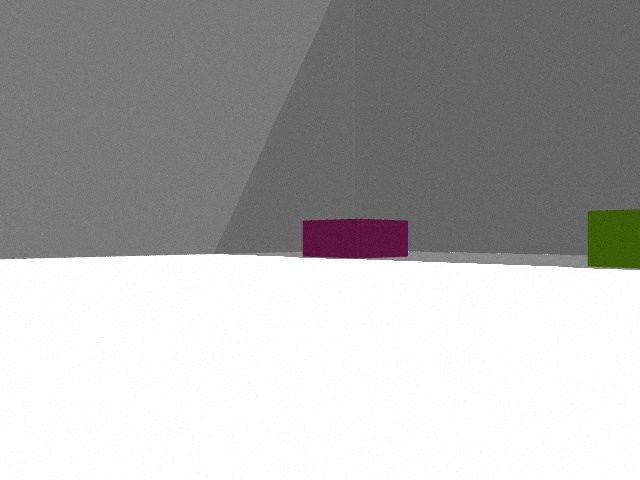green_drop_zone: (588, 209, 640, 269)
red_drop_zone: (303, 219, 408, 259)
